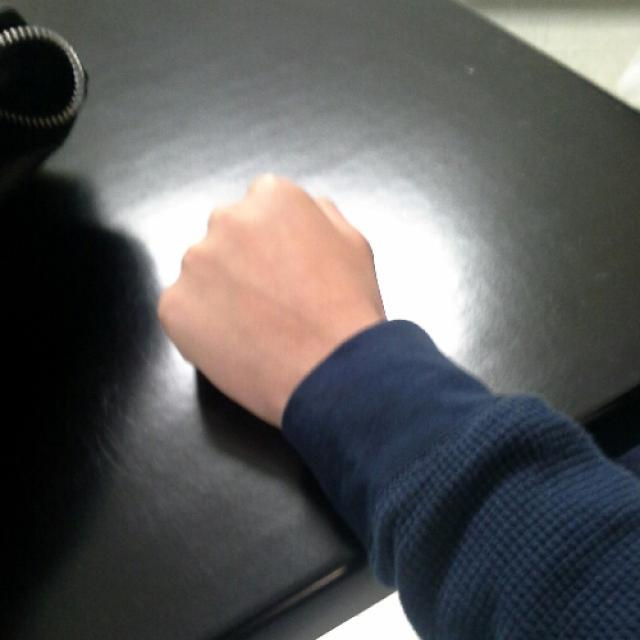fist: (158, 171, 380, 406)
